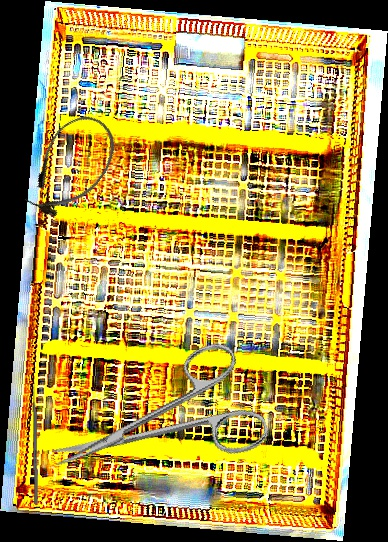Cannula: (13, 103, 129, 230)
Iris Scissors: (35, 335, 273, 509)
Pusher: (31, 377, 39, 505)
